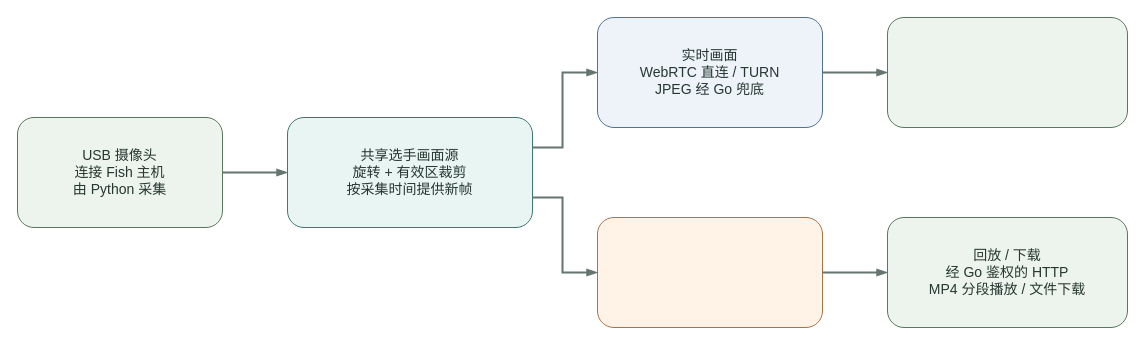
Image size: 1145x345. Some labels were removed from this diagram. The box of each missing label's shape, as (x1, y1, x2, y2) in pixels:
主机端录像 PyAV 编码 H.264 结束后封存 MP4: (596, 216, 822, 328)
比赛直播 浏览器展示画面: (886, 16, 1128, 128)
